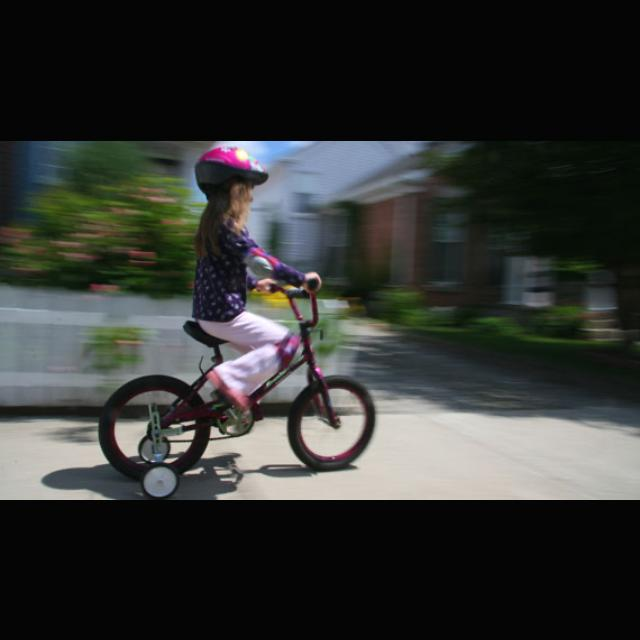With Helmet: (188, 144, 266, 202)
